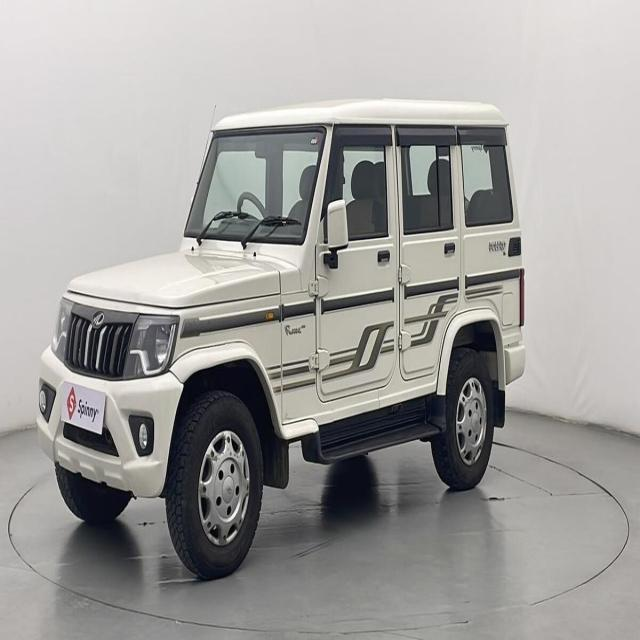light_vehicle: (38, 110, 516, 562)
